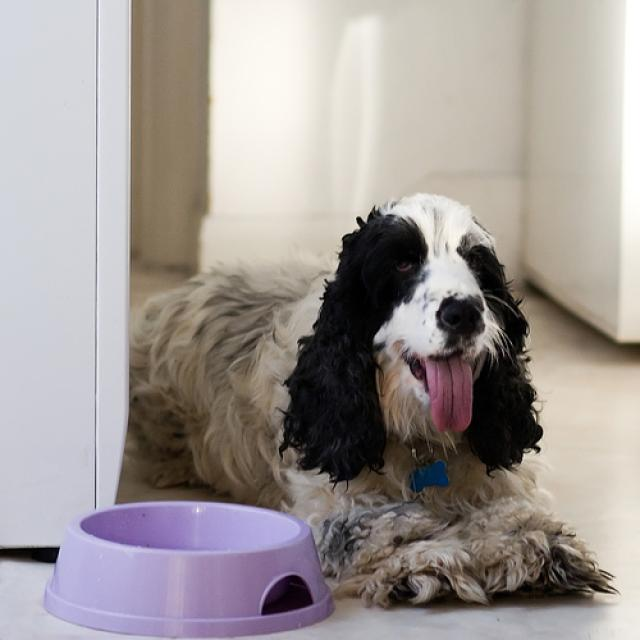dog-english_cocker_spaniel: (119, 191, 617, 611)
